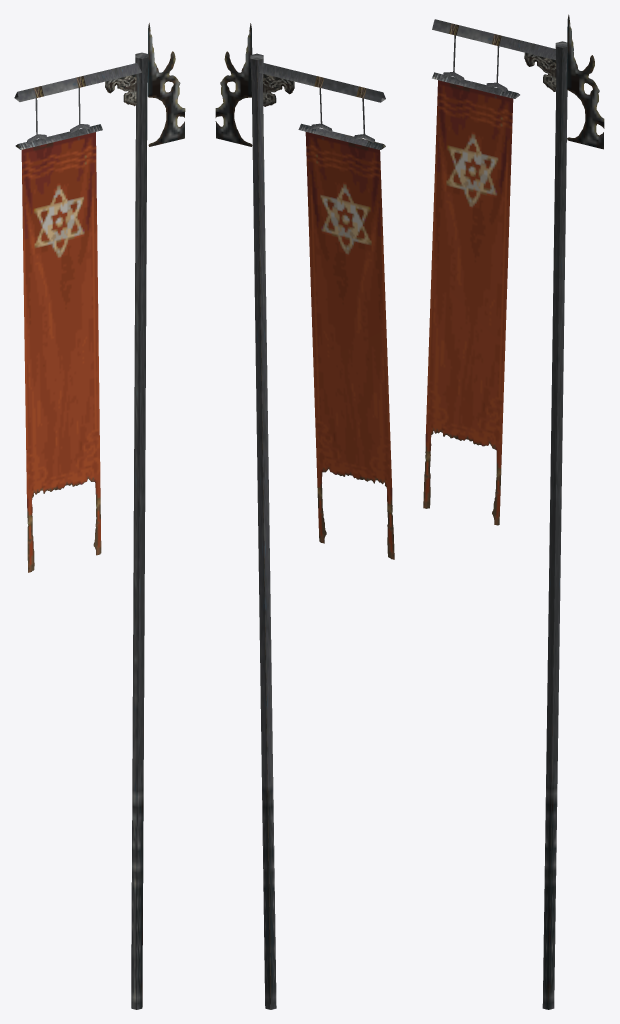
The model's file is Plant_3002_dataoshu_qizi02.FBX.
The picture shows the model from 3 angles, left to right: view 1: azimuth 30°, elevation 25°; view 2: azimuth 150°, elevation 25°; view 3: azimuth 330°, elevation 25°; orthographic projection.
Visible parts, largest first — view 1: Plant_3002_dataoshu_qizi02; view 2: Plant_3002_dataoshu_qizi02; view 3: Plant_3002_dataoshu_qizi02.
Boxes of the visible parts, bbox=[...] form: Plant_3002_dataoshu_qizi02: bbox=[14, 23, 185, 1009]; Plant_3002_dataoshu_qizi02: bbox=[215, 23, 394, 1009]; Plant_3002_dataoshu_qizi02: bbox=[423, 14, 604, 1009].
Bounding box in the file's own units: 424 × 2352 × 65.17.
